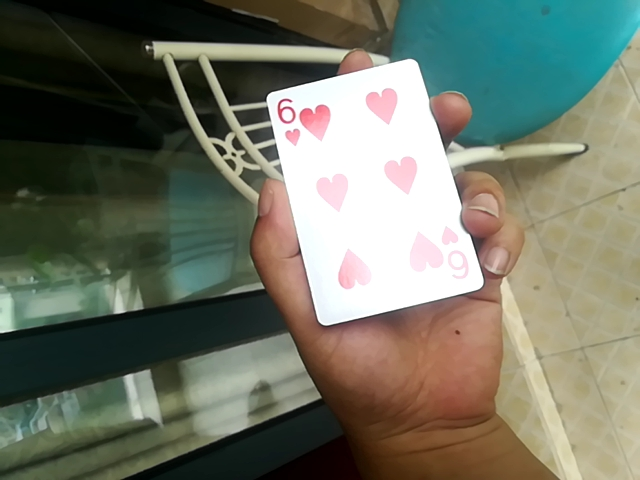hx 6: (261, 55, 472, 326)
